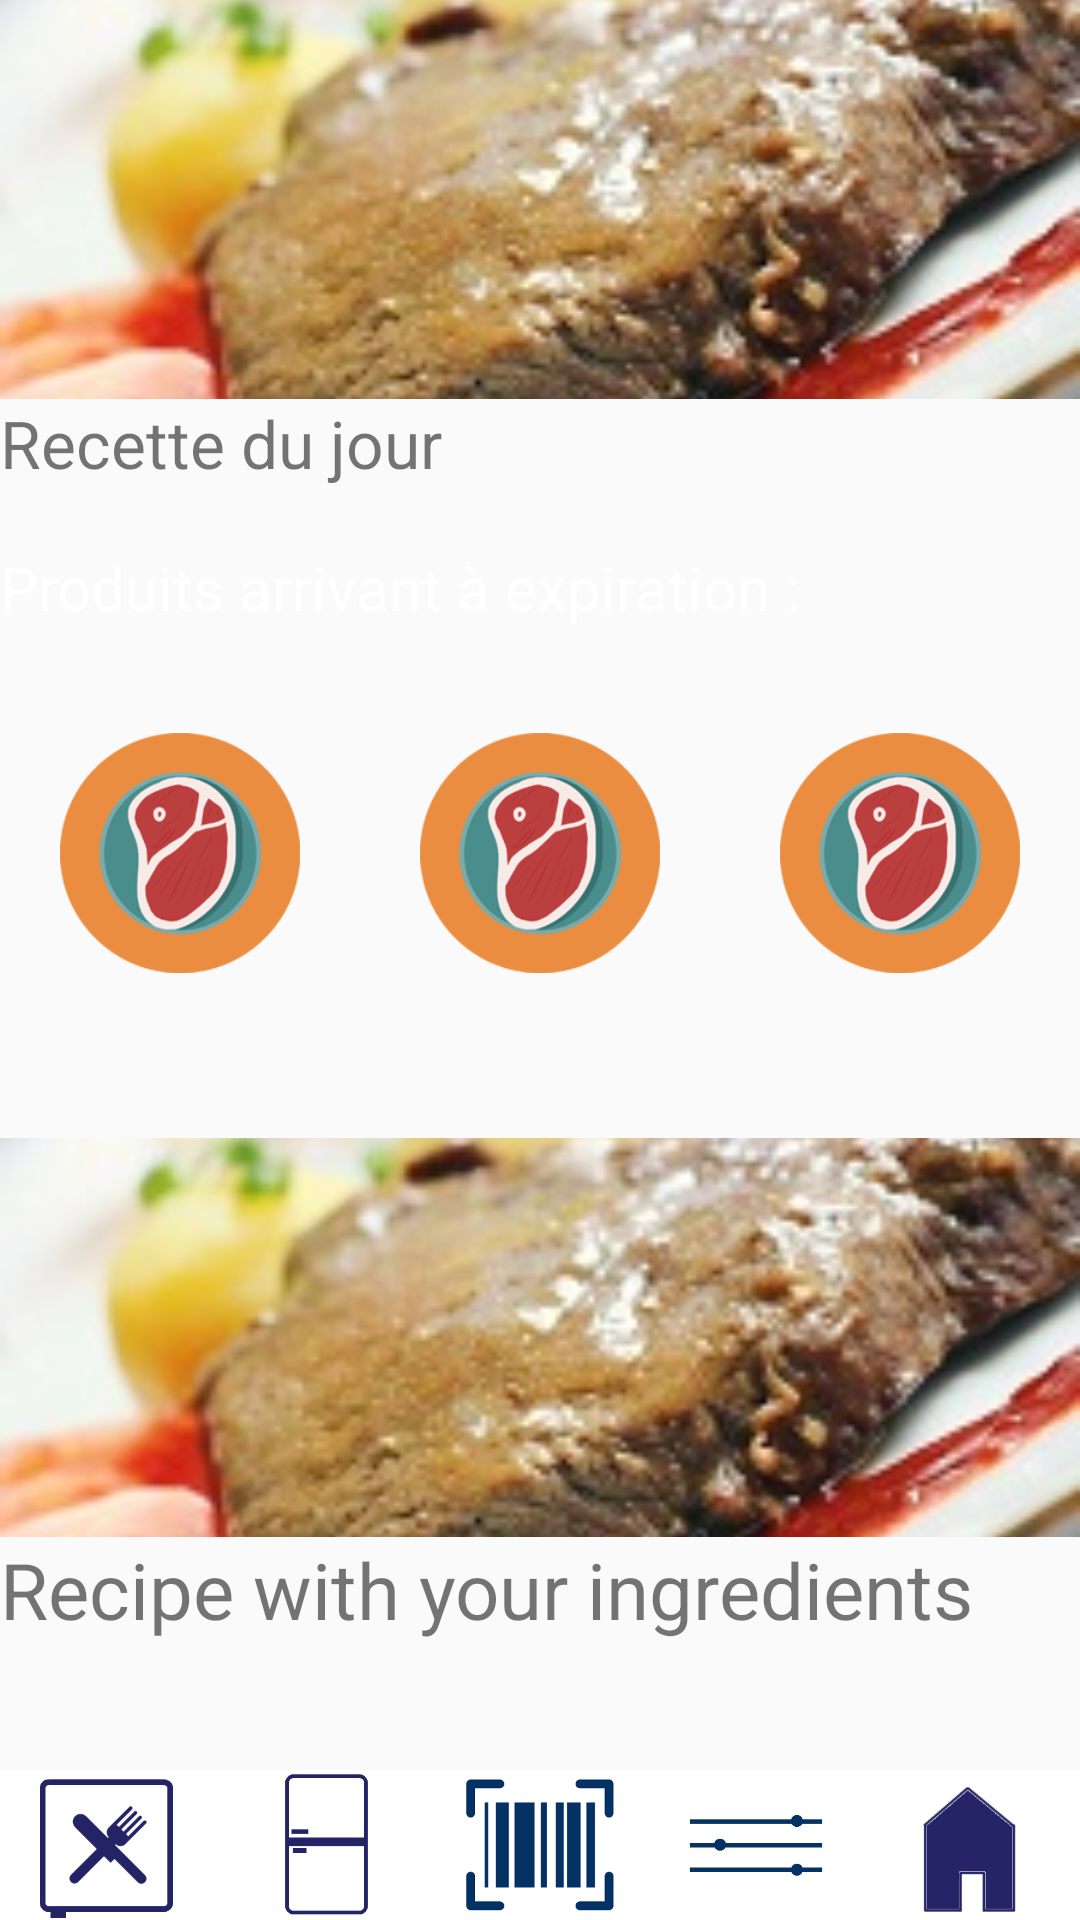

Where icons sit on this 1080 x 1920 app screen, as (x1, y1, x2, y2):
barcode: (466, 1779, 614, 1911)
cookbook: (40, 1779, 173, 1918)
fridge: (285, 1774, 368, 1915)
home: (923, 1787, 1016, 1912)
settings: (689, 1815, 823, 1876)
steak: (60, 733, 300, 973), (420, 733, 660, 973), (780, 733, 1020, 973)
